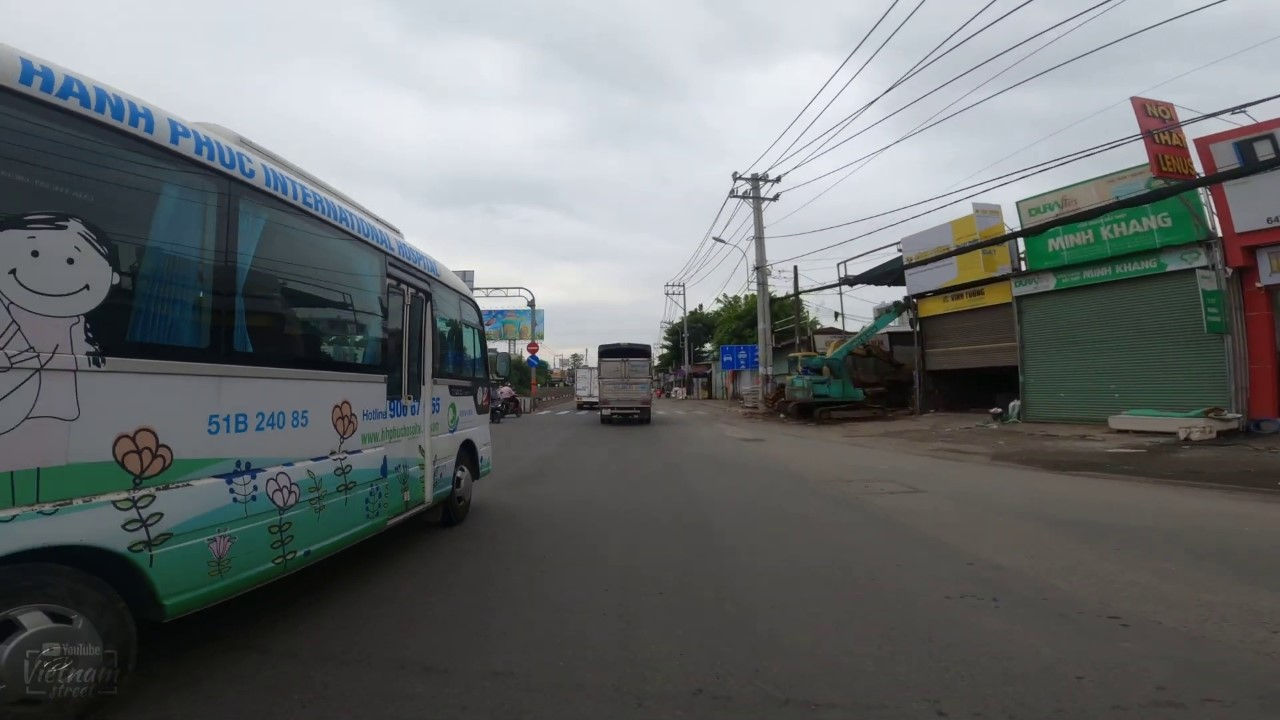cam_nguoc_chieu: (526, 342, 540, 354)
huong_phai_di_vong: (527, 355, 540, 368)
